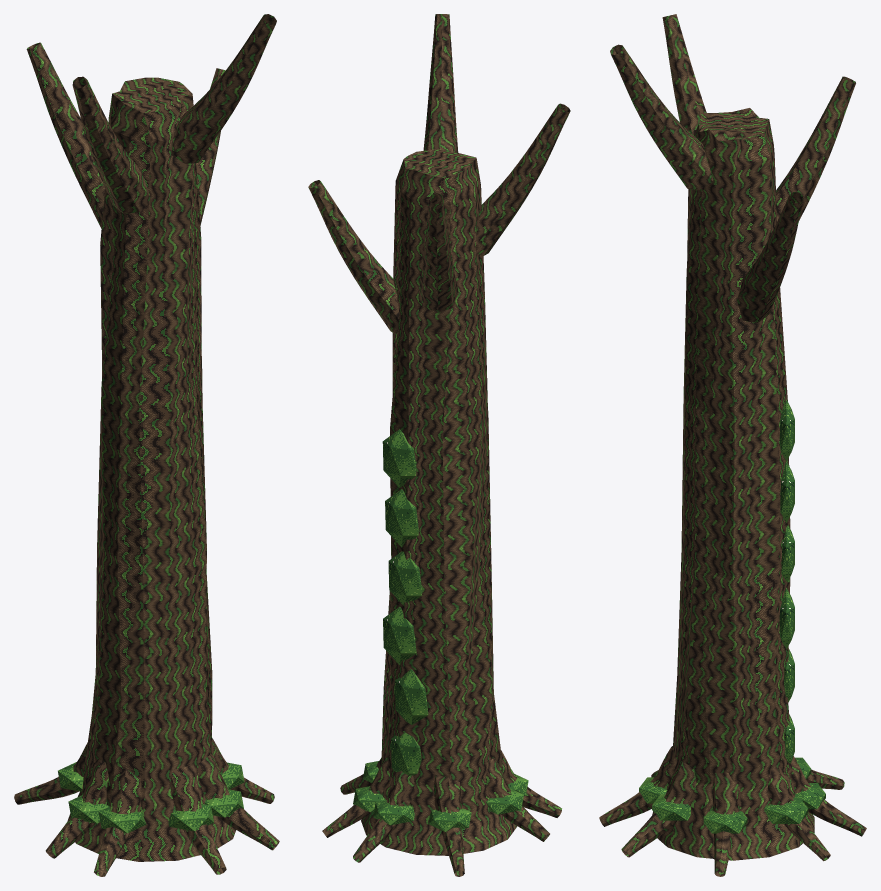
File: encina_trunk.glb
3 renders of one model, left to right at view 1: azimuth 30°, elevation 25°; view 2: azimuth 150°, elevation 25°; view 3: azimuth 270°, elevation 25°, orthographic. The views are drawn at different scales.
Parts seen in each view (by area): view 1: Trunk; view 2: Trunk; view 3: Trunk.
Part boxes in pixels (x1=…): Trunk: x1=14, y1=14, x2=279, y2=876; Trunk: x1=308, y1=14, x2=570, y2=876; Trunk: x1=599, y1=14, x2=866, y2=876.
Size of the model in its own units: 8.77 by 30.86 by 9.28.
Materials: 2 (2 with a texture image).
